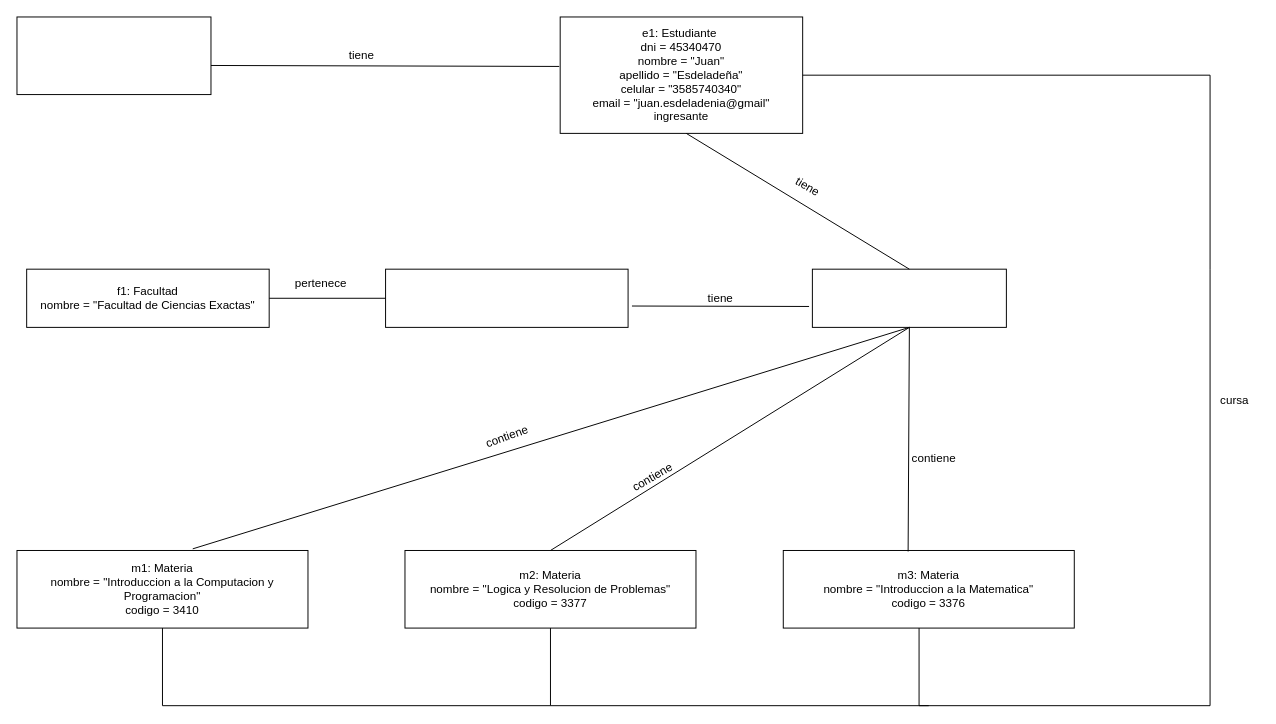
Image size: 1276x724. Some labels were removed from this diagram. The centre of each missing label's shape, as x and y in pixels:
c1: Carrera nombre = "Analista en Computacion": point 506,297
pl1: Plan de Estudio año = 2024: point 908,297
u1: Usuario user = "45340470" pass = "Juan45340470": point 113,55
